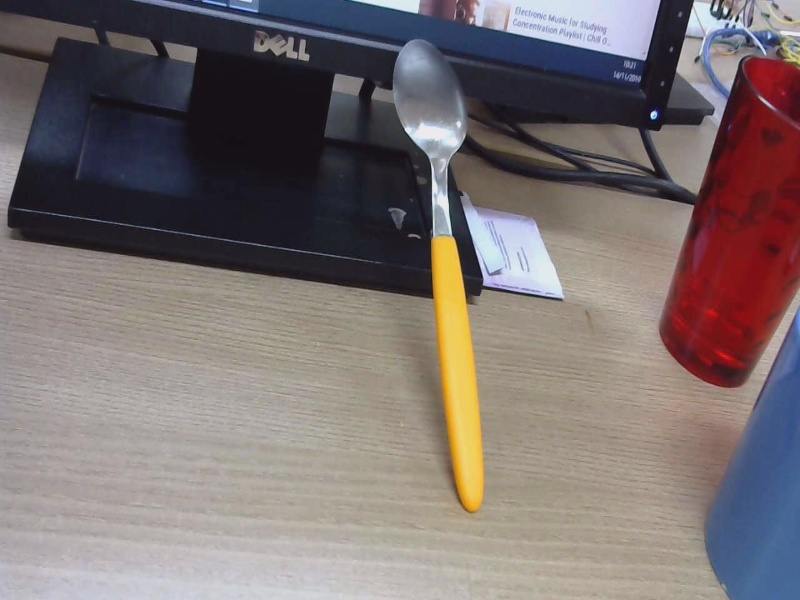cuchara: (385, 39, 529, 517)
